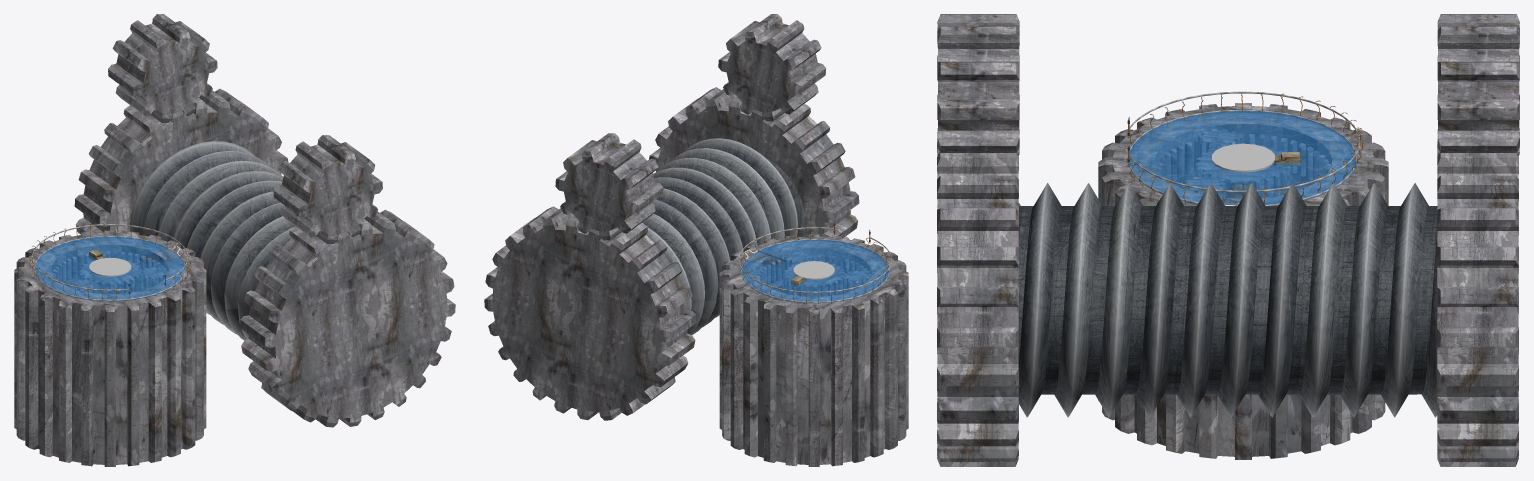
File: Nexus_Elevator.FBX
3 renders of one model, left to right at view 1: azimuth 30°, elevation 25°; view 2: azimuth 150°, elevation 25°; view 3: azimuth 270°, elevation 25°, orthographic. The views are drawn at different scales.
Parts seen in each view (by area): view 1: Elevator_Gear01, Monolithic_Screw_Connector00, Monolithic_Screw01, Monolithic_Screw_Connector01, Monolithic_Screw_Connector02, Monolithic_Screw_Connector03, Glass_Platform002, Glass_Platform004, Elevator_Platform_Railing, Elevator_Gear00, EnergyCrystalComp, Elevator_Platform_Railing2; view 2: Elevator_Gear01, Monolithic_Screw_Connector01, Monolithic_Screw01, Monolithic_Screw_Connector00, Monolithic_Screw_Connector03, Monolithic_Screw_Connector02, Glass_Platform002, Glass_Platform004, Elevator_Platform_Railing, Elevator_Gear00, EnergyCrystalComp, Elevator_Platform_Railing2; view 3: Monolithic_Screw01, Elevator_Gear01, Monolithic_Screw_Connector01, Monolithic_Screw_Connector00, Glass_Platform002, Glass_Platform004, Monolithic_Screw_Connector03, Monolithic_Screw_Connector02, Elevator_Gear00, Elevator_Platform_Railing, EnergyCrystalComp, Elevator_Platform_Railing2 (+1 smaller).
Part boxes in pixels (box(x1,y1,x2,y2)): Elevator_Gear01: box(14, 230, 206, 466); Monolithic_Screw_Connector00: box(240, 209, 455, 427); Monolithic_Screw01: box(129, 141, 294, 340); Monolithic_Screw_Connector01: box(74, 88, 288, 234); Monolithic_Screw_Connector02: box(108, 14, 217, 122); Monolithic_Screw_Connector03: box(273, 135, 382, 243); Glass_Platform002: box(35, 237, 184, 301); Glass_Platform004: box(35, 237, 184, 301); Elevator_Platform_Railing: box(32, 224, 187, 300); Elevator_Gear00: box(79, 257, 141, 293); EnergyCrystalComp: box(89, 257, 131, 276); Elevator_Platform_Railing2: box(29, 224, 191, 299); Elevator_Gear01: box(719, 234, 908, 466); Monolithic_Screw_Connector01: box(484, 206, 696, 420); Monolithic_Screw01: box(642, 138, 805, 334); Monolithic_Screw_Connector00: box(649, 87, 859, 239); Monolithic_Screw_Connector03: box(718, 14, 826, 121); Monolithic_Screw_Connector02: box(555, 133, 663, 240); Glass_Platform002: box(741, 240, 888, 303); Glass_Platform004: box(741, 240, 888, 303); Elevator_Platform_Railing: box(738, 227, 891, 302); Elevator_Gear00: box(783, 261, 844, 296); EnergyCrystalComp: box(793, 261, 834, 279); Elevator_Platform_Railing2: box(740, 226, 888, 303); Monolithic_Screw01: box(1018, 183, 1437, 417); Elevator_Gear01: box(1098, 103, 1388, 459); Monolithic_Screw_Connector01: box(1437, 141, 1518, 466); Monolithic_Screw_Connector00: box(937, 142, 1018, 466); Glass_Platform002: box(1130, 111, 1355, 204); Glass_Platform004: box(1130, 111, 1355, 204); Monolithic_Screw_Connector03: box(937, 14, 1019, 155); Monolithic_Screw_Connector02: box(1437, 14, 1519, 155); Elevator_Gear00: box(1196, 143, 1290, 198); Elevator_Platform_Railing: box(1127, 91, 1360, 205); EnergyCrystalComp: box(1212, 143, 1274, 172); Elevator_Platform_Railing2: box(1129, 92, 1363, 203).
Size of the model in its own units: 980 by 898 by 997.
